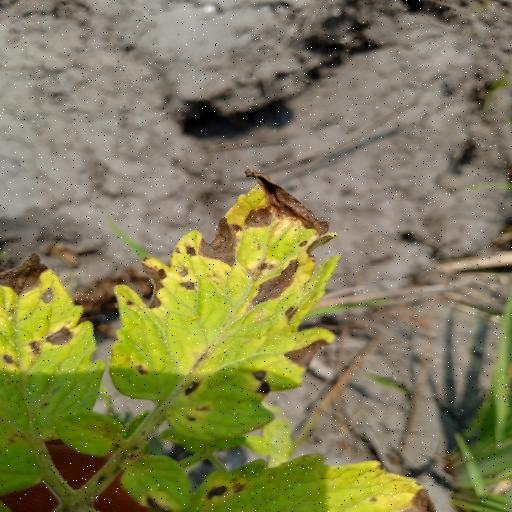Tomato_Brown_Spots: (104, 170, 345, 438), (0, 243, 109, 501)
